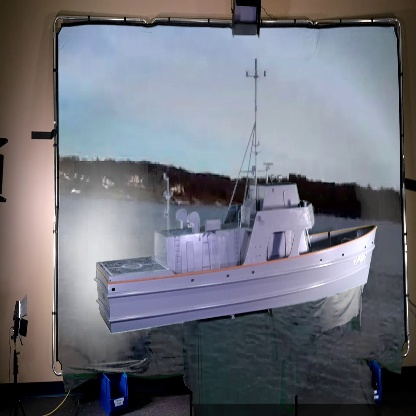YP689: (93, 52, 378, 336)
